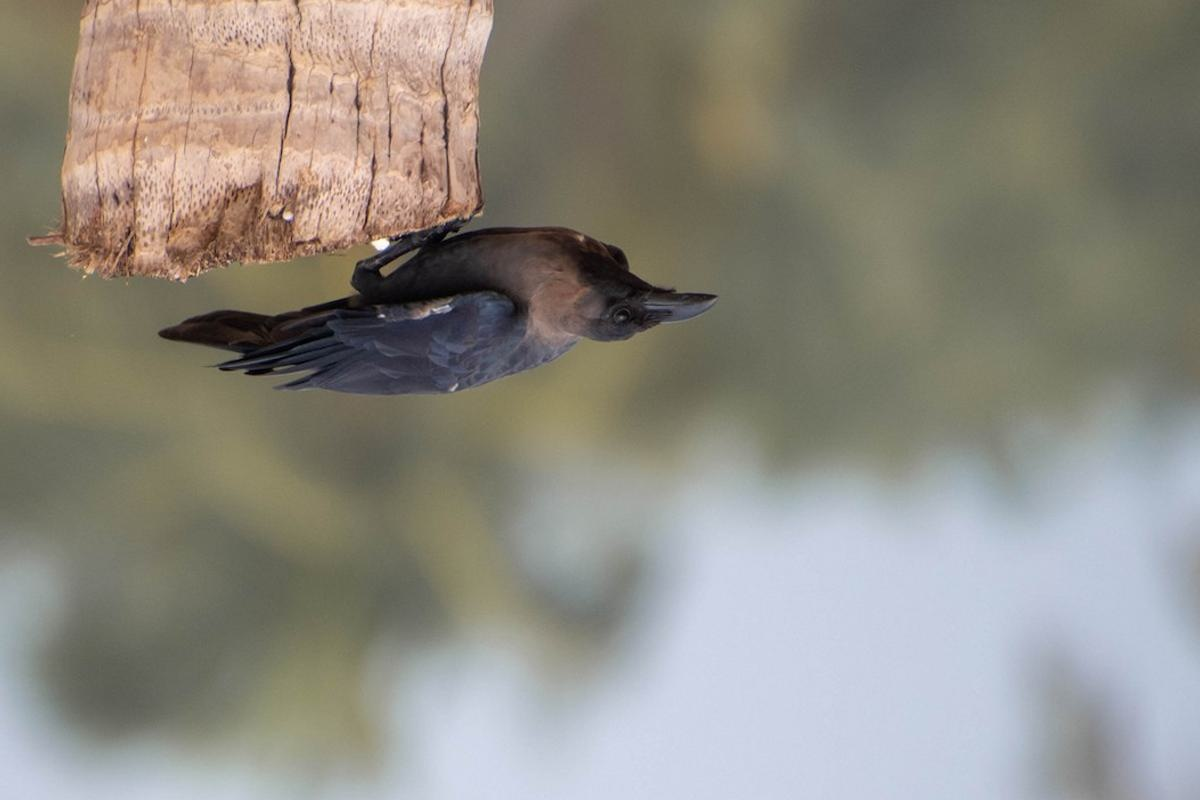crow: (160, 214, 730, 409)
